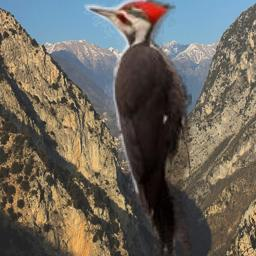Woodpecker: (84, 0, 192, 256)
